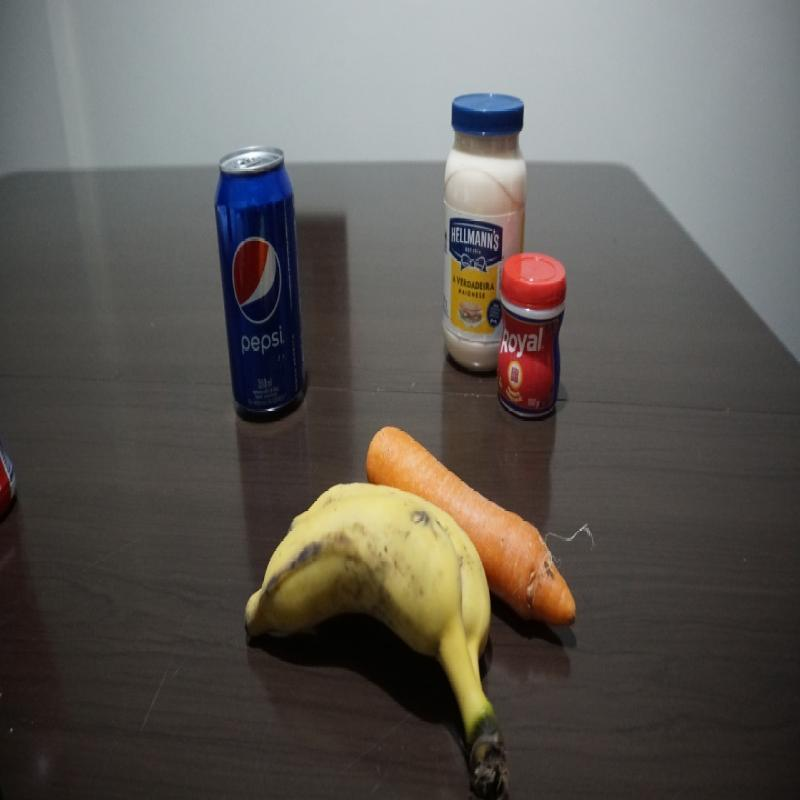Banana: (247, 487, 504, 717)
Carrot: (369, 424, 578, 628)
Mayonnaise: (444, 87, 522, 377)
Soda can: (212, 146, 312, 416)
Yeast: (497, 252, 565, 416)
